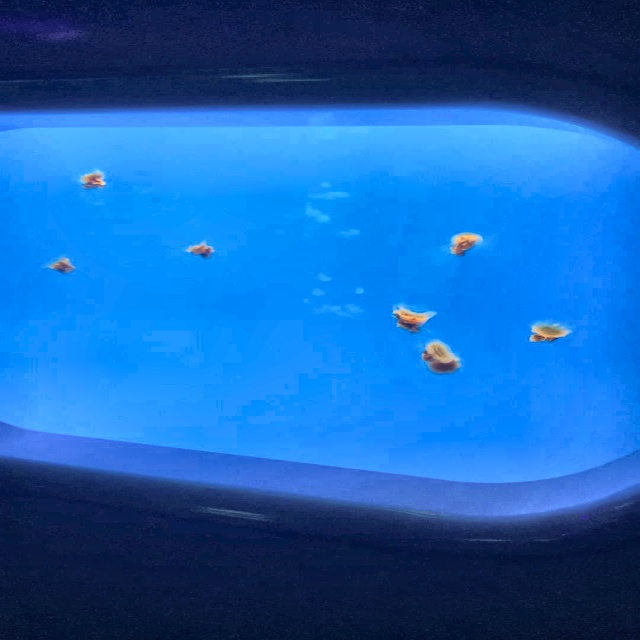jellyfish: (421, 339, 460, 375), (391, 306, 437, 335), (526, 319, 571, 342), (448, 232, 485, 255), (76, 167, 108, 189), (185, 240, 217, 260), (48, 256, 76, 275)
